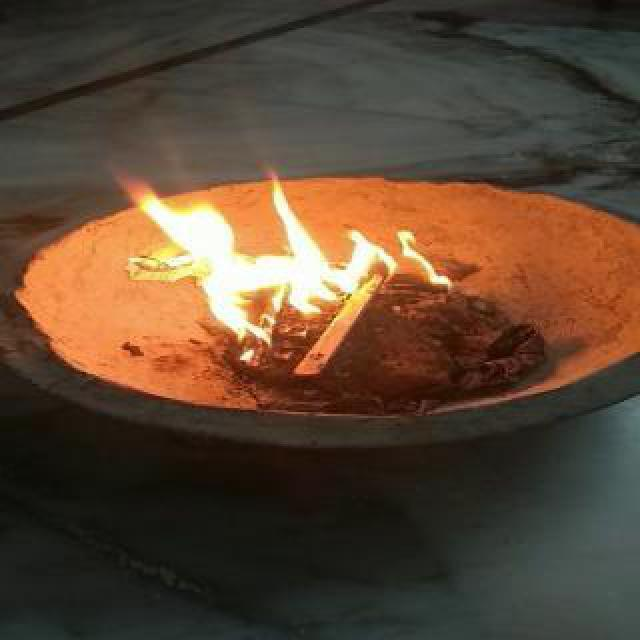zfire: (102, 152, 474, 348)
